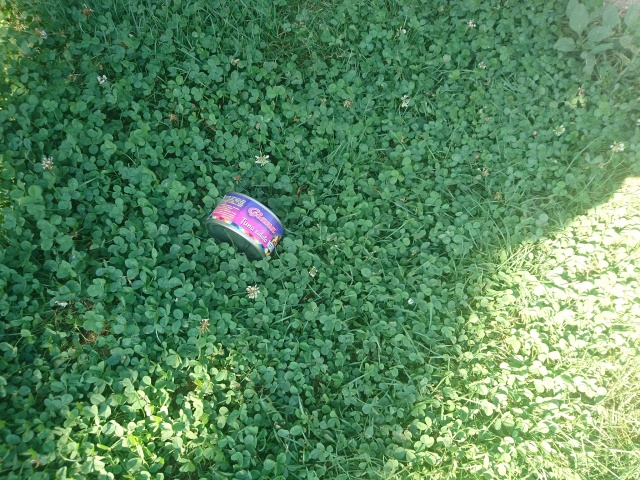Giana Tuna Salad Mexico 185g: (202, 189, 287, 268)
